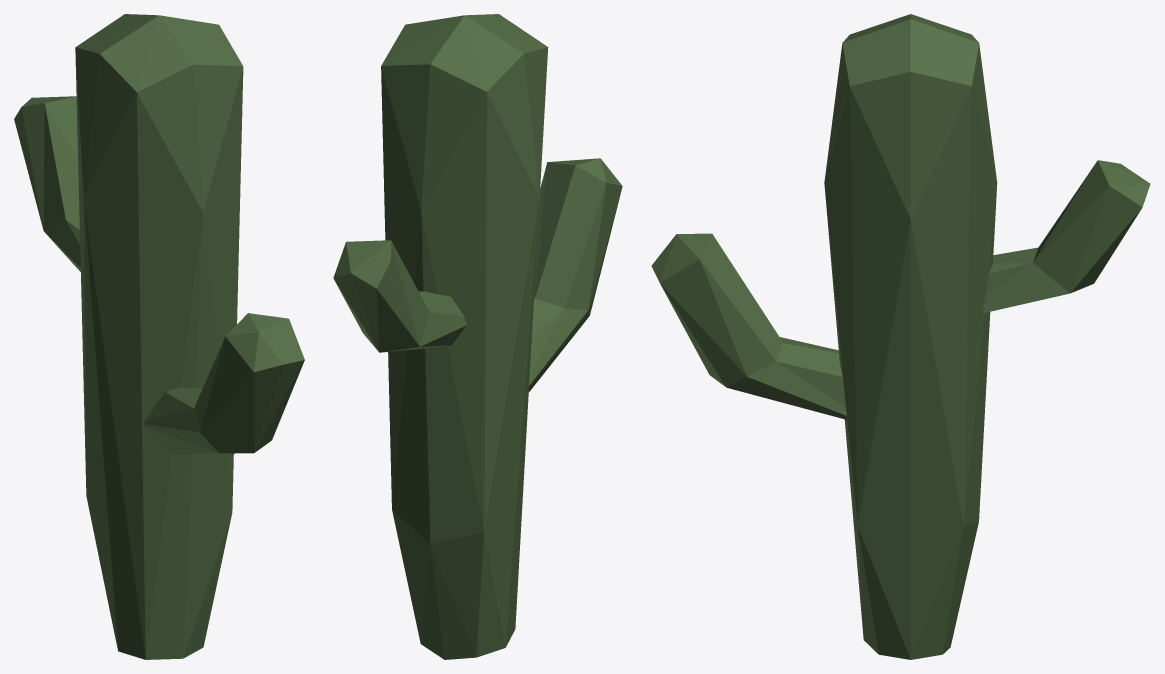
File: Cactus_3.lod2.glb
3 views of the same model, side by side, from view 1: azimuth 30°, elevation 25°; view 2: azimuth 150°, elevation 25°; view 3: azimuth 270°, elevation 25° (orthographic).
Visible parts, largest first — view 1: Cactus_3; view 2: Cactus_3; view 3: Cactus_3.
Boxes of the visible parts, x1,y1,x2,y2 form: Cactus_3: (14, 14, 304, 659); Cactus_3: (333, 14, 622, 659); Cactus_3: (651, 14, 1150, 659).
Size of the model in its own units: 0.3505 by 1.41 by 1.01.
